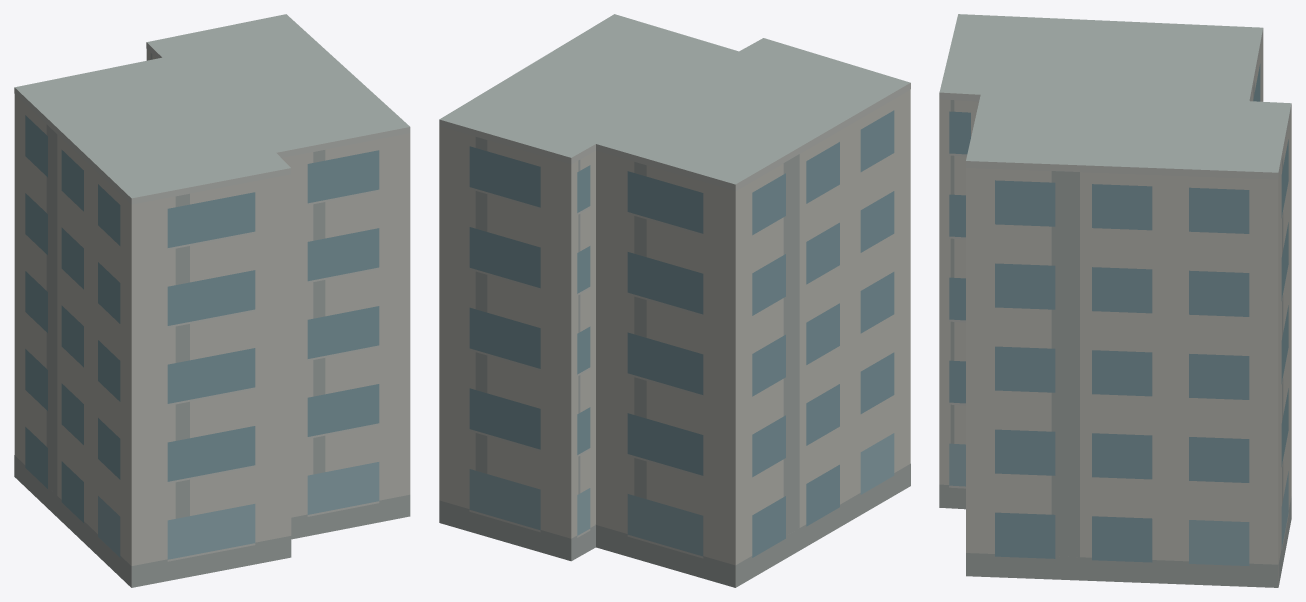
The model's file is survey-upis-33031014.glb.
3 views of the same model, side by side, from view 1: azimuth 30°, elevation 25°; view 2: azimuth 150°, elevation 25°; view 3: azimuth 270°, elevation 25° (orthographic). The views are drawn at different scales.
Visible parts, largest first — view 1: survey-upis-33031014.tmp; view 2: survey-upis-33031014.tmp; view 3: survey-upis-33031014.tmp.
Boxes of the visible parts, box(x1,y1,x2,y2) form: survey-upis-33031014.tmp: box(14, 14, 410, 587); survey-upis-33031014.tmp: box(439, 14, 910, 587); survey-upis-33031014.tmp: box(939, 14, 1291, 587).
Size of the model in its own units: 12.16 by 14.82 by 11.4.
